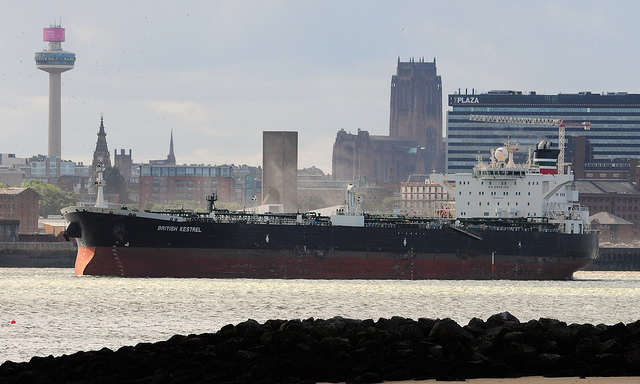tanker: (61, 140, 597, 279)
